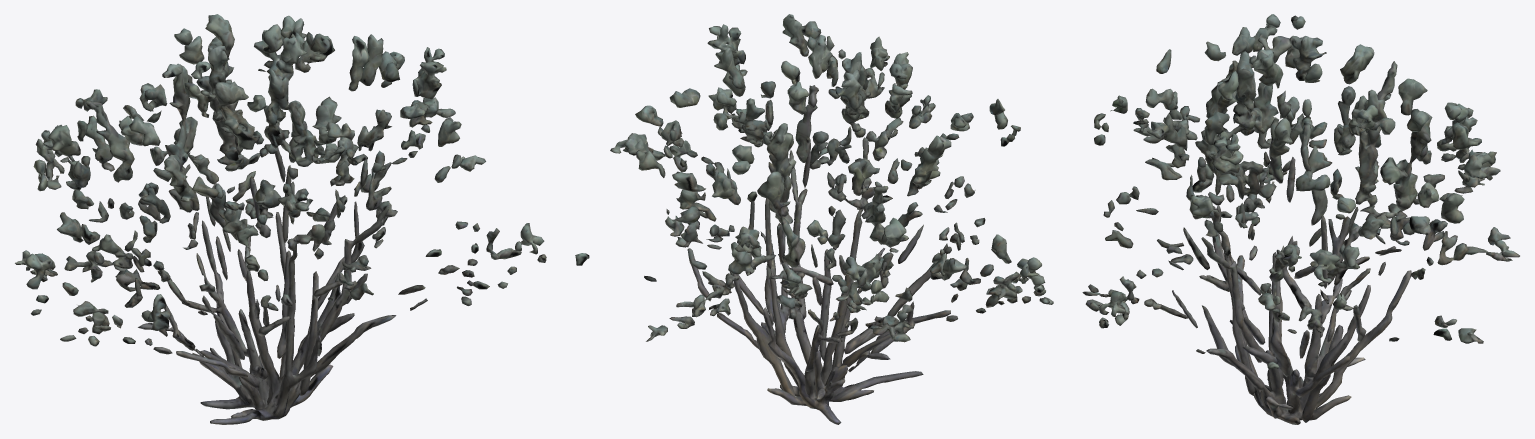
Rendered from AI_DesertSageShrub.fbx.
3 renders of one model, left to right at view 1: azimuth 30°, elevation 25°; view 2: azimuth 150°, elevation 25°; view 3: azimuth 270°, elevation 25°, orthographic. The views are drawn at different scales.
Visible parts, largest first — view 1: Mesh1.0; view 2: Mesh1.0; view 3: Mesh1.0.
Boxes of the visible parts, x1,y1,x2,y2 form: Mesh1.0: (15, 14, 546, 424); Mesh1.0: (575, 14, 1053, 424); Mesh1.0: (1082, 14, 1519, 424).
Size of the model in its own units: 187 by 152 by 162.
Materials: 1 (1 with a texture image).
